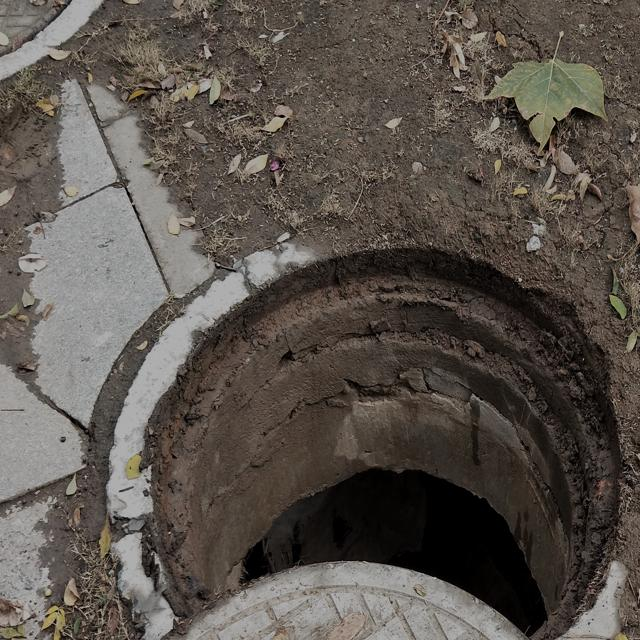uncovered: (0, 234, 640, 640)
